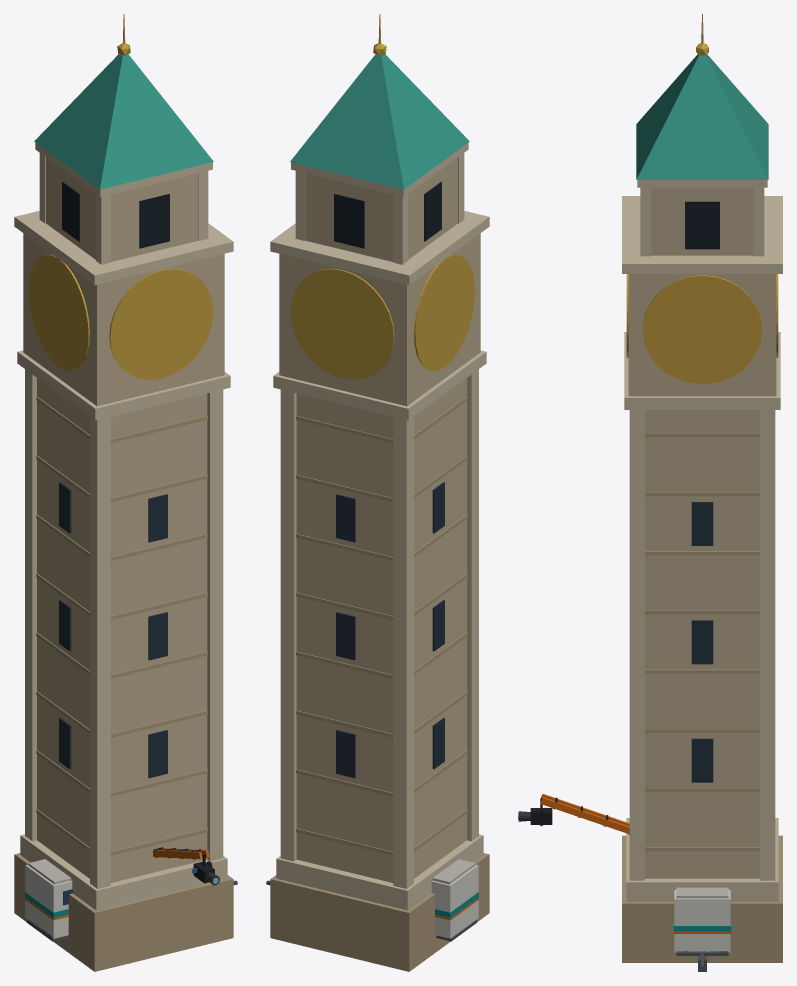
Rendered from film.glb.
The picture shows the model from 3 angles, left to right: view 1: azimuth 30°, elevation 25°; view 2: azimuth 150°, elevation 25°; view 3: azimuth 270°, elevation 25°; orthographic projection.
Visible parts, largest first — view 1: clocktower, trailer, filmcrane; view 2: clocktower, trailer; view 3: clocktower, trailer, filmcrane.
Part boxes in pixels (bbox=[...]): clocktower: bbox=[14, 14, 233, 971]; trailer: bbox=[25, 859, 237, 941]; filmcrane: bbox=[153, 847, 219, 885]; clocktower: bbox=[270, 14, 489, 971]; trailer: bbox=[266, 859, 478, 941]; clocktower: bbox=[622, 14, 782, 962]; trailer: bbox=[673, 887, 731, 971]; filmcrane: bbox=[518, 794, 629, 834].
Size of the model in its own units: 10.52 by 46.4 by 12.18.
